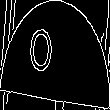O_S: (42, 26, 68, 84)
